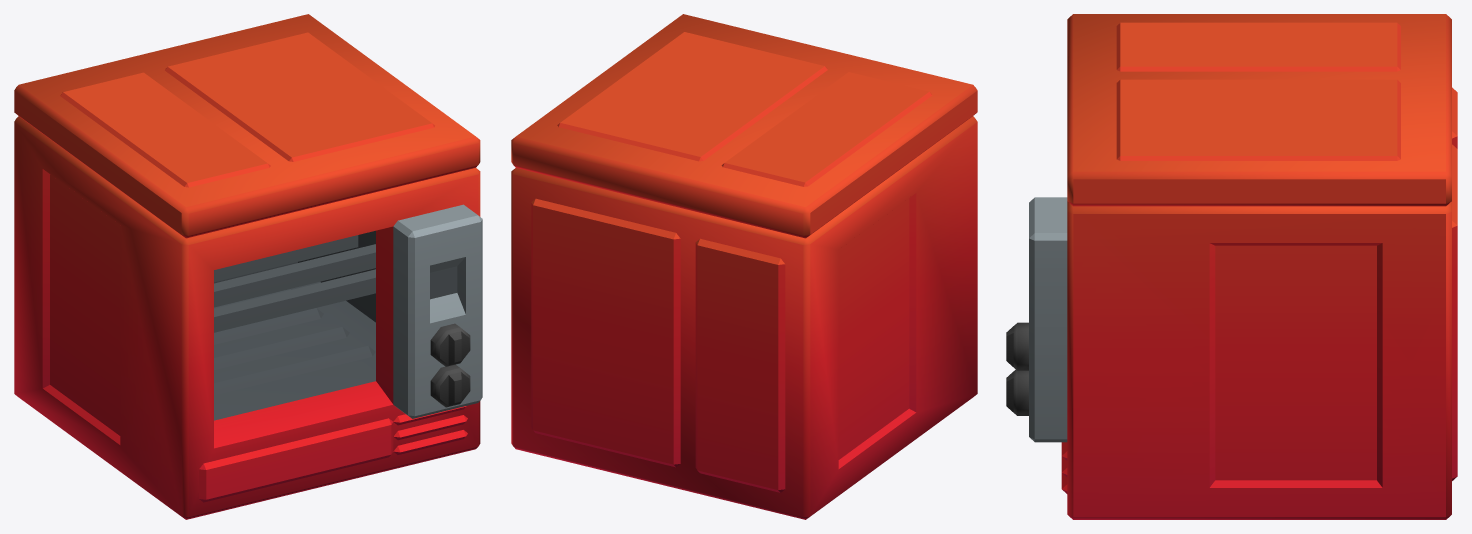
File: oven.obj
3 renders of one model, left to right at view 1: azimuth 30°, elevation 25°; view 2: azimuth 150°, elevation 25°; view 3: azimuth 270°, elevation 25°, orthographic. The views are drawn at different scales.
Parts seen in each view (by area): view 1: oven_Cube.068; view 2: oven_Cube.068; view 3: oven_Cube.068.
Boxes of the visible parts, box(x1,y1,x2,y2) form: oven_Cube.068: box(14, 14, 482, 519); oven_Cube.068: box(511, 14, 977, 519); oven_Cube.068: box(1006, 14, 1457, 519).
Bounding box in the file's own units: 2 × 2.02 × 2.35.
Materials: 1 (1 with a texture image).
